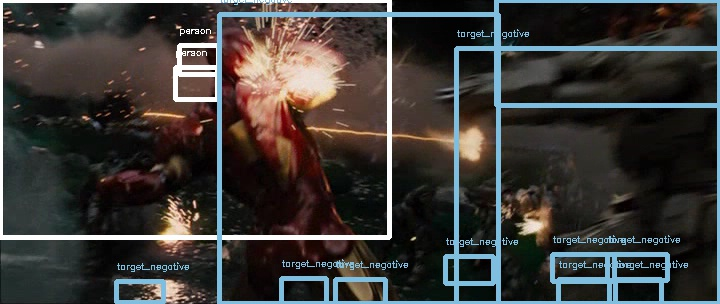person: (206, 22, 257, 84), (205, 22, 256, 84), (207, 22, 258, 84), (206, 21, 257, 83), (206, 23, 257, 85)
target_negative: (346, 74, 543, 267), (459, 17, 630, 124), (543, 246, 679, 298), (198, 121, 282, 179), (362, 247, 455, 256), (569, 91, 602, 114)
